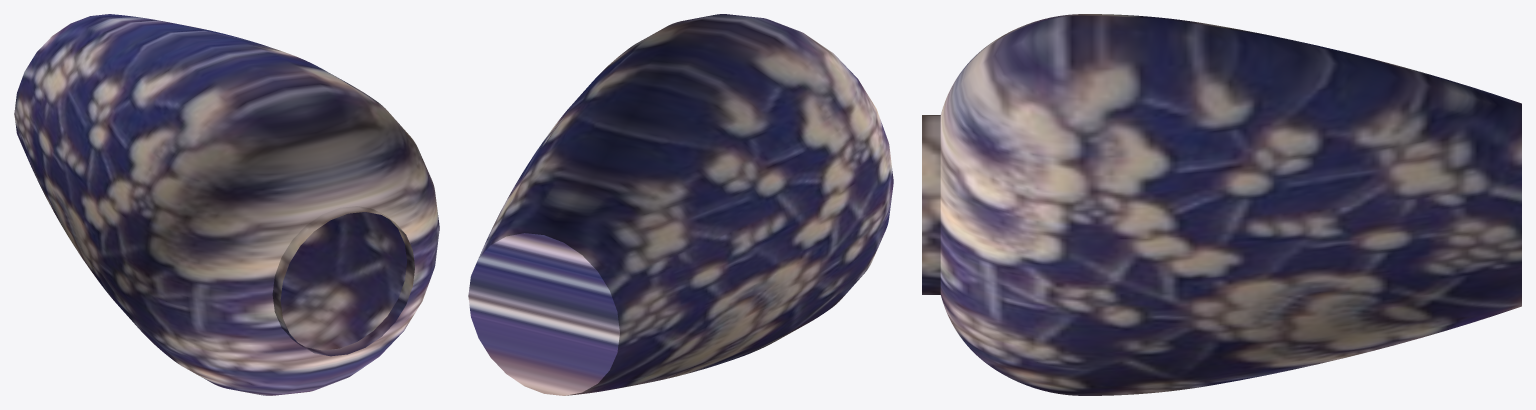
File: model_align.obj
The picture shows the model from 3 angles, left to right: view 1: azimuth 30°, elevation 25°; view 2: azimuth 150°, elevation 25°; view 3: azimuth 270°, elevation 25°; orthographic projection. The views are drawn at different scales.
Visible parts, largest first — view 1: mesh1_mesh1-geometry; view 2: mesh1_mesh1-geometry; view 3: mesh1_mesh1-geometry.
Part boxes in pixels (x1=…): mesh1_mesh1-geometry: x1=14, y1=14, x2=439, y2=395; mesh1_mesh1-geometry: x1=468, y1=14, x2=893, y2=395; mesh1_mesh1-geometry: x1=922, y1=14, x2=1521, y2=395.
Bounding box in the file's own units: 0.0717 × 0.0717 × 0.1122.
